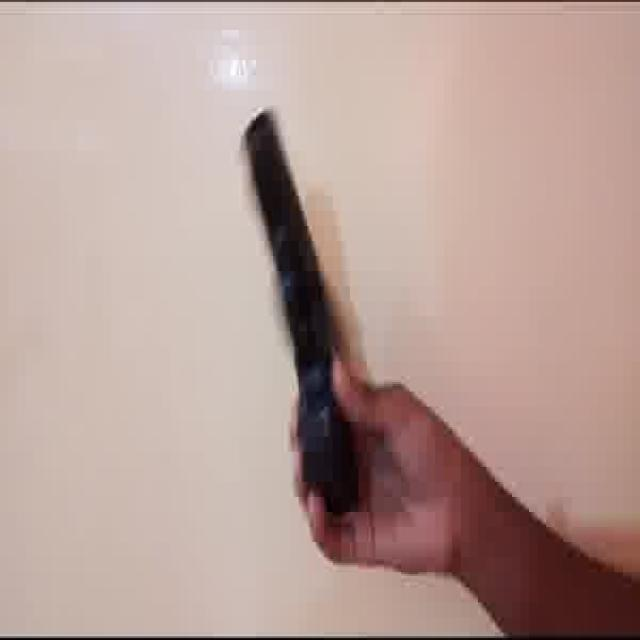weapon: (244, 105, 374, 529)
